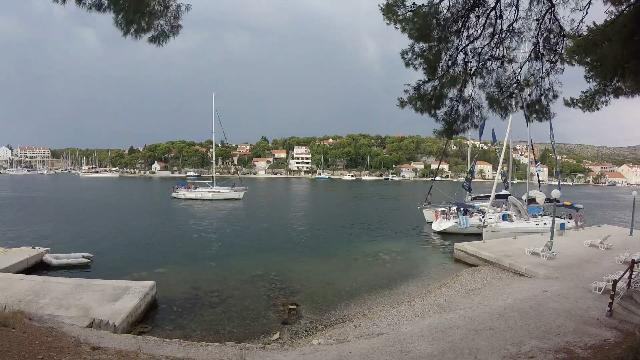Sailboat: (168, 174, 250, 204)
